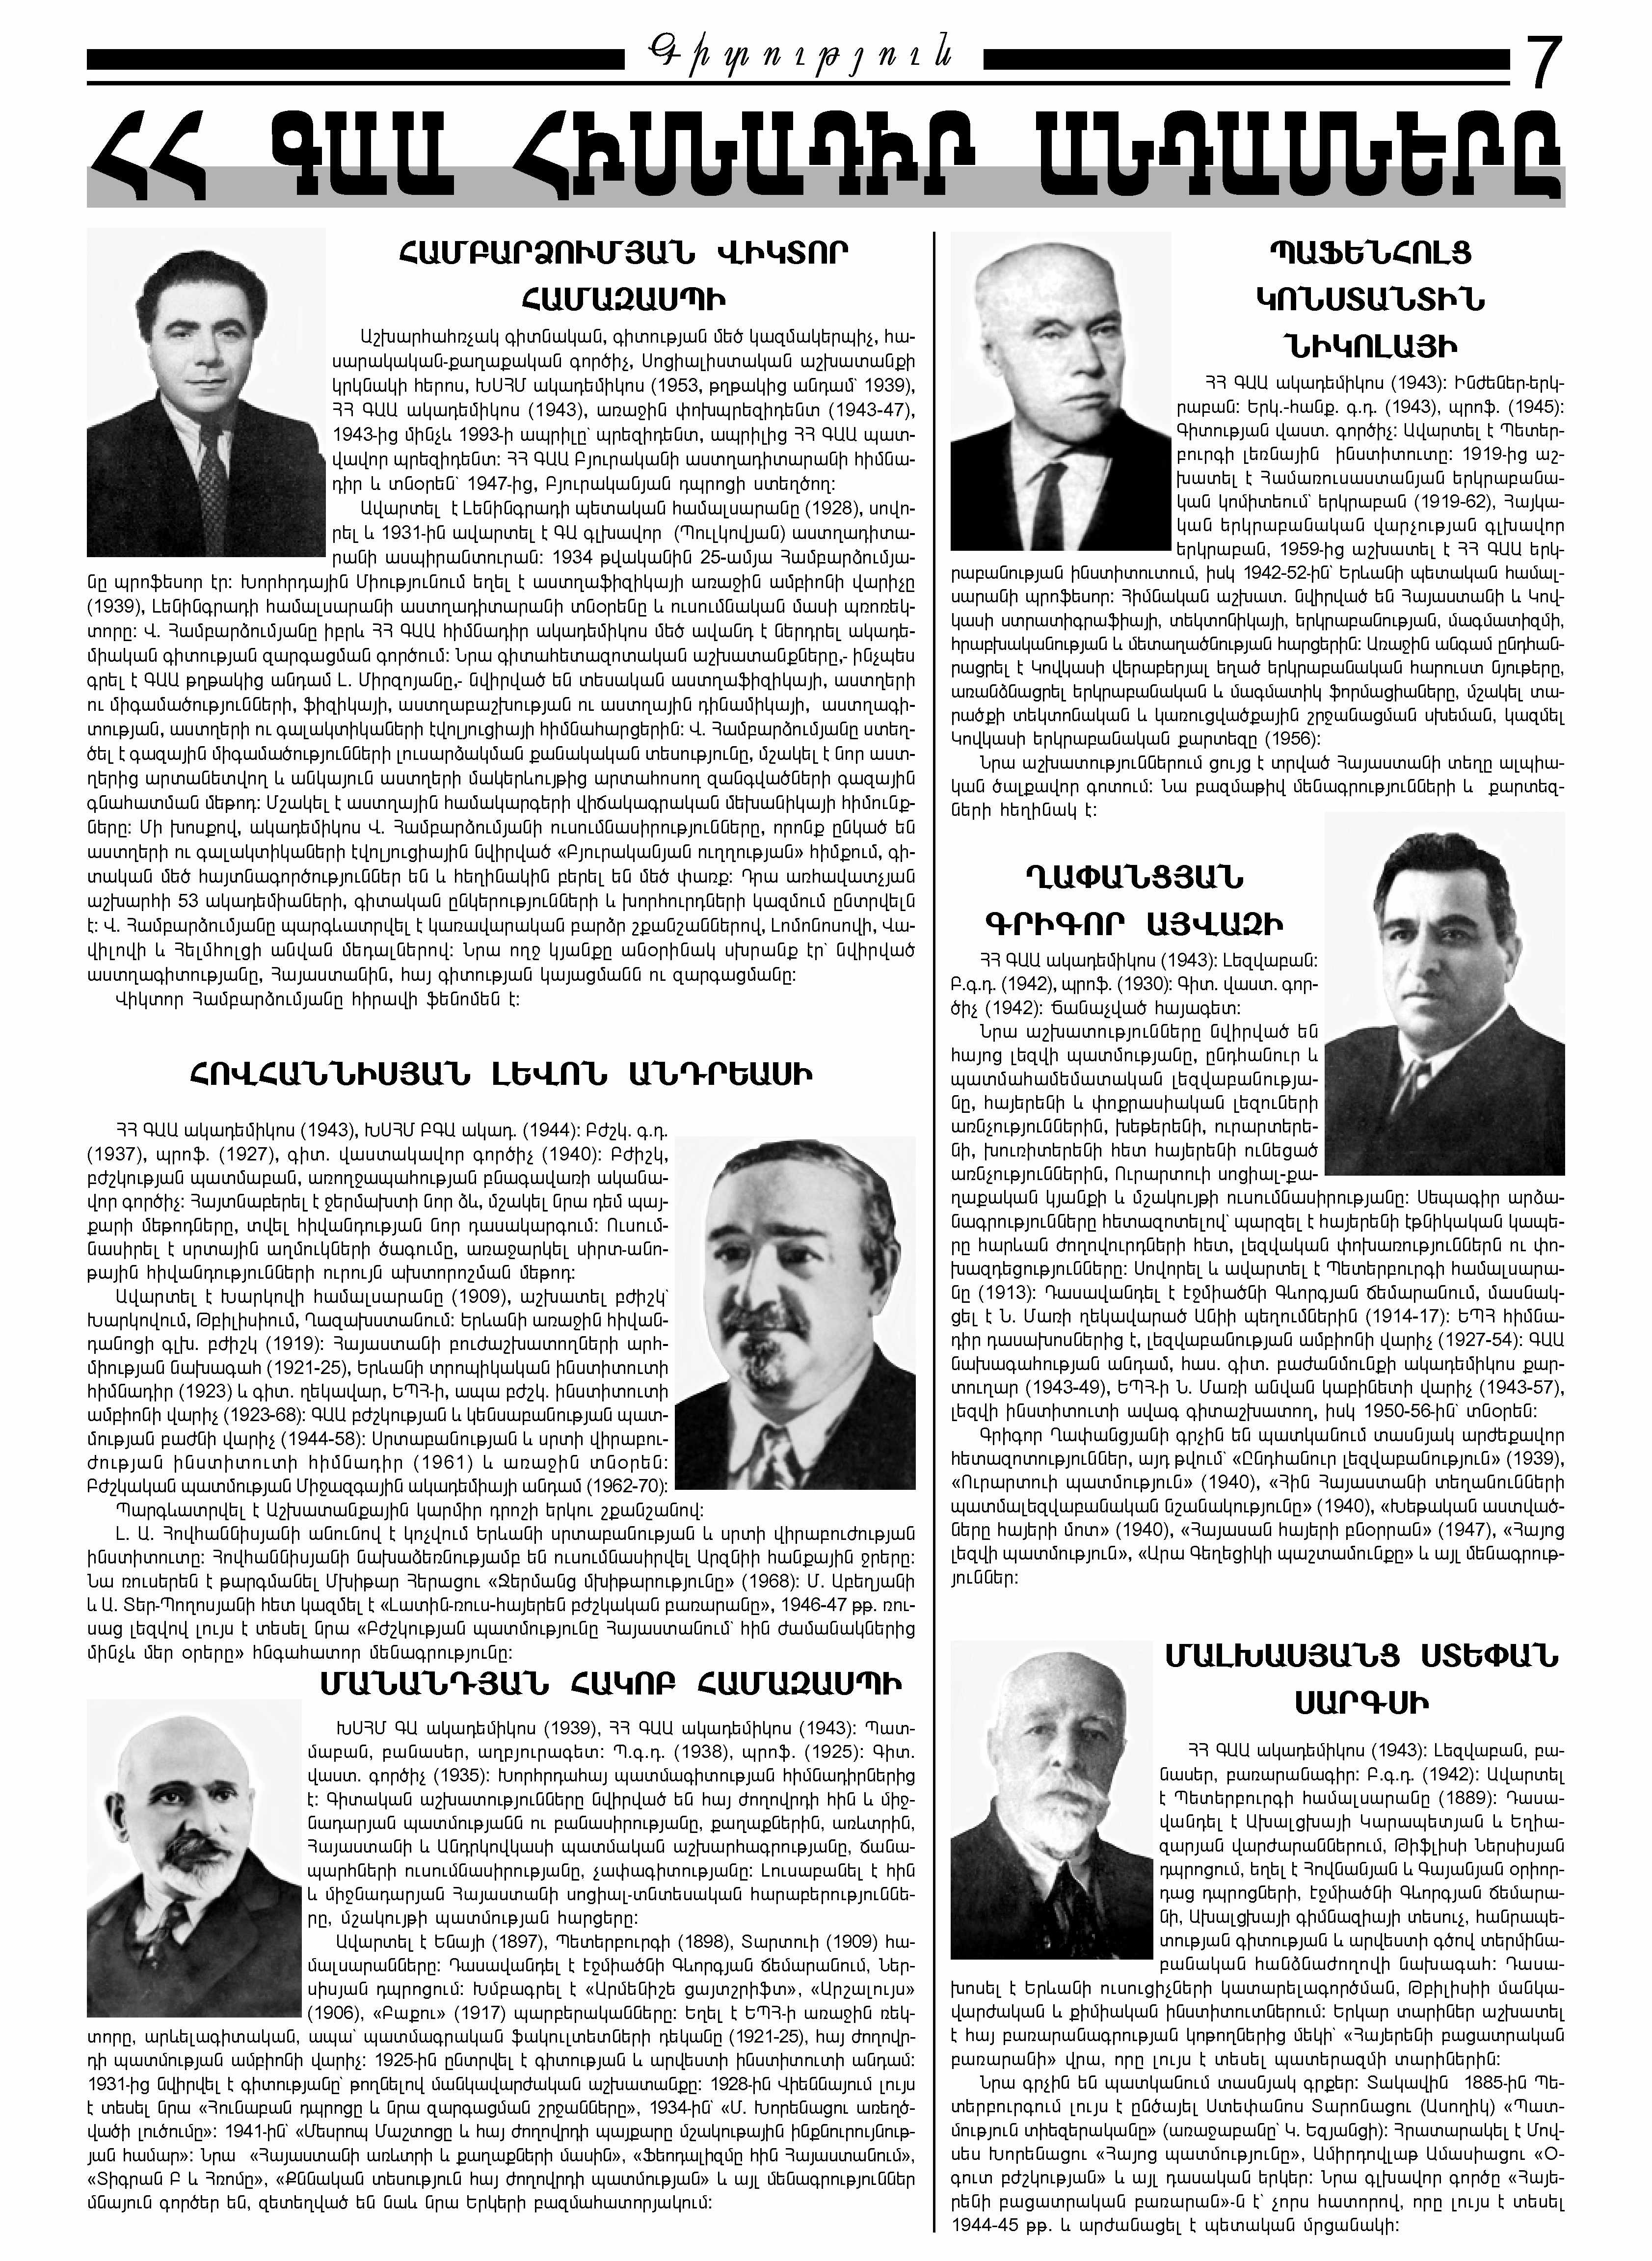table: (1311, 809, 1580, 1187), (676, 1111, 927, 1506), (84, 214, 330, 562), (943, 223, 1182, 563), (81, 1687, 311, 2015), (946, 1620, 1164, 1966)
